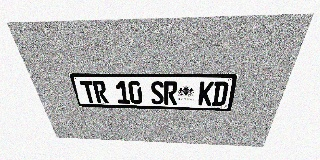0: (128, 81, 143, 104)
1: (114, 81, 130, 104)
D: (211, 82, 229, 106)
K: (198, 81, 214, 106)
R: (92, 81, 109, 103), (164, 81, 177, 105)
S: (150, 81, 164, 105)
T: (79, 80, 97, 103)
